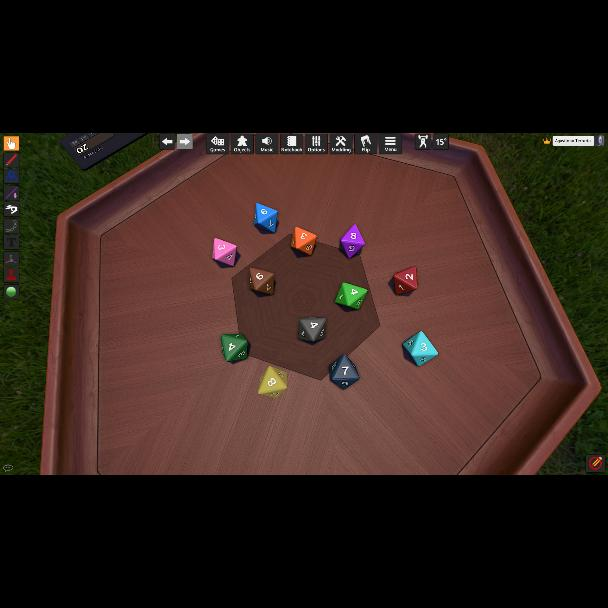d8: (404, 330, 438, 366), (328, 354, 358, 388), (340, 224, 365, 260), (258, 366, 288, 396), (221, 333, 248, 362), (336, 284, 366, 310), (254, 202, 278, 234), (212, 238, 236, 268), (292, 226, 316, 256), (394, 266, 418, 296), (298, 318, 326, 342), (250, 267, 274, 295)
